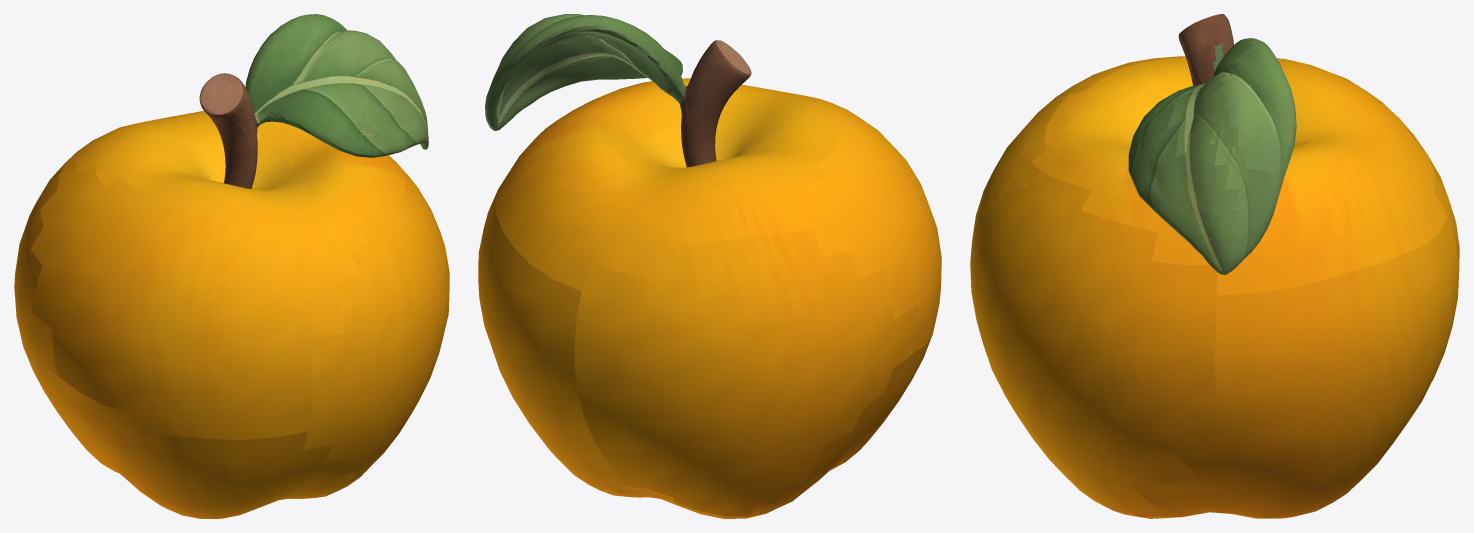
The model's file is elma.glb.
3 views of the same model, side by side, from view 1: azimuth 30°, elevation 25°; view 2: azimuth 150°, elevation 25°; view 3: azimuth 270°, elevation 25° (orthographic). The views are drawn at different scales.
Visible parts, largest first — view 1: Mesh0; view 2: Mesh0; view 3: Mesh0.
Part boxes in pixels (x1,y1,x2,y2): Mesh0: (14,14,449,518); Mesh0: (478,14,941,518); Mesh0: (970,14,1459,518).
Size of the model in its own units: 1.83 by 1.9 by 1.75.
Materials: 1 (1 with a texture image).
